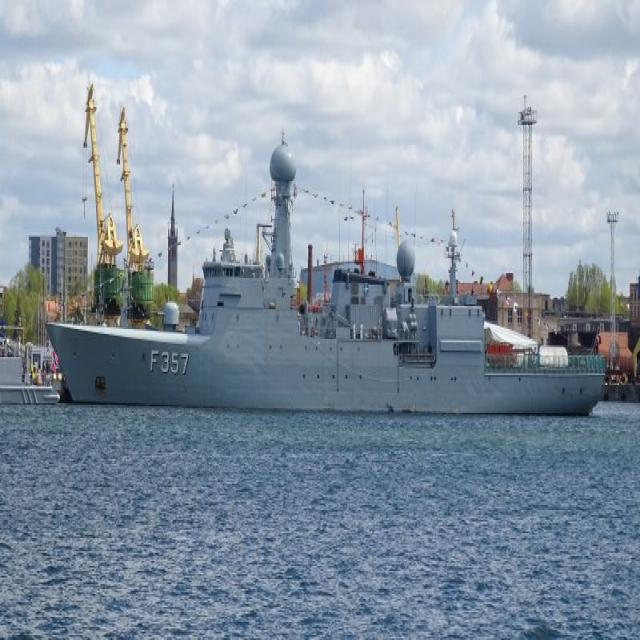Fragata: (42, 121, 609, 411)
